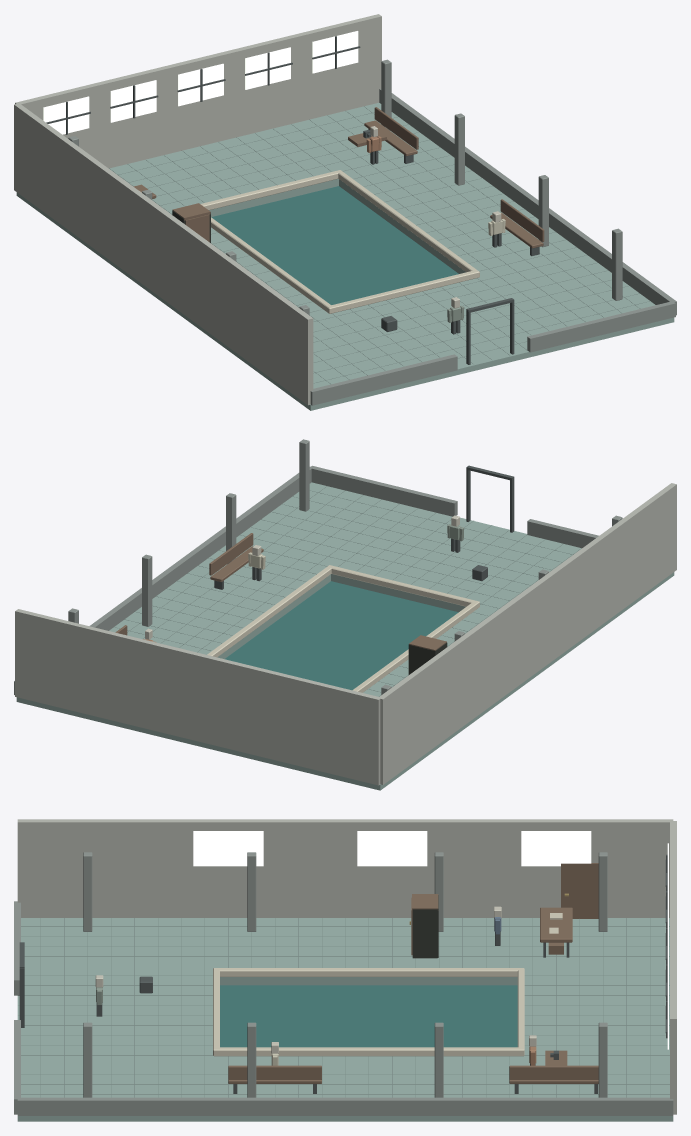
File: bath-faceless.glb
The picture shows the model from 3 angles, top to bottom: view 1: azimuth 30°, elevation 25°; view 2: azimuth 150°, elevation 25°; view 3: azimuth 270°, elevation 25°; orthographic projection. The views are drawn at different scales.
Visible parts, largest first — view 1: BathFloor, WestWall, NorthWall, PoolWater, EastCutawayWall, EntranceCutawayRight, EntranceCutawayLeft, PoolRim.001, HighWindow.004, HighWindow.002, HighWindow.001, HighWindow.003 (+12 smaller); view 2: BathFloor, NorthWall, WestWall, PoolWater, EastCutawayWall, EntranceCutawayRight, PoolRim.001, PoolRim.003, EntranceCutawayLeft, PoolRim, PoolBasinWall.003, PoolBasinWall.001 (+4 smaller); view 3: BathFloor, WestWall, PoolWater, EastCutawayWall, PoolRim.001, PoolRim, PoolBasinWall, WestHighWindow.001, WestHighWindow, WestHighWindow.002, NorthWall, ServiceDoor (+22 smaller).
Boxes of the visible parts, left/top/right/bottom form: BathFloor: left=16, top=102, right=674, bottom=410; WestWall: left=14, top=104, right=313, bottom=405; NorthWall: left=15, top=14, right=381, bottom=168; PoolWater: left=211, top=186, right=458, bottom=304; EastCutawayWall: left=379, top=88, right=676, bottom=315; EntranceCutawayRight: left=527, top=302, right=675, bottom=352; EntranceCutawayLeft: left=310, top=354, right=457, bottom=405; PoolRim.001: left=337, top=170, right=479, bottom=278; HighWindow.004: left=312, top=31, right=358, bottom=73; HighWindow.002: left=178, top=63, right=223, bottom=106; HighWindow.001: left=110, top=80, right=156, bottom=122; HighWindow.003: left=245, top=47, right=290, bottom=89; BathFloor: left=16, top=482, right=674, bottom=790; NorthWall: left=15, top=609, right=380, bottom=785; WestWall: left=378, top=483, right=676, bottom=784; PoolWater: left=224, top=581, right=458, bottom=690; EastCutawayWall: left=14, top=466, right=312, bottom=694; EntranceCutawayRight: left=310, top=465, right=457, bottom=516; PoolRim.001: left=207, top=565, right=332, bottom=657; PoolRim.003: left=331, top=565, right=479, bottom=606; EntranceCutawayLeft: left=527, top=519, right=598, bottom=548; PoolRim: left=352, top=600, right=479, bottom=692; PoolBasinWall.003: left=331, top=574, right=465, bottom=612; PoolBasinWall.001: left=217, top=574, right=330, bottom=658; BathFloor: left=17, top=918, right=673, bottom=1121; WestWall: left=17, top=819, right=673, bottom=917; PoolWater: left=220, top=985, right=517, bottom=1047; EastCutawayWall: left=17, top=1097, right=673, bottom=1115; PoolRim.001: left=213, top=1047, right=524, bottom=1056; PoolRim: left=213, top=968, right=524, bottom=976; PoolBasinWall: left=220, top=977, right=517, bottom=985; WestHighWindow.001: left=357, top=831, right=427, bottom=866; WestHighWindow: left=521, top=831, right=591, bottom=866; WestHighWindow.002: left=193, top=831, right=263, bottom=866; NorthWall: left=670, top=821, right=676, bottom=1114; ServiceDoor: left=561, top=863, right=598, bottom=918.
Bounding box in the file's own units: 20.3 × 6 × 28.3.
